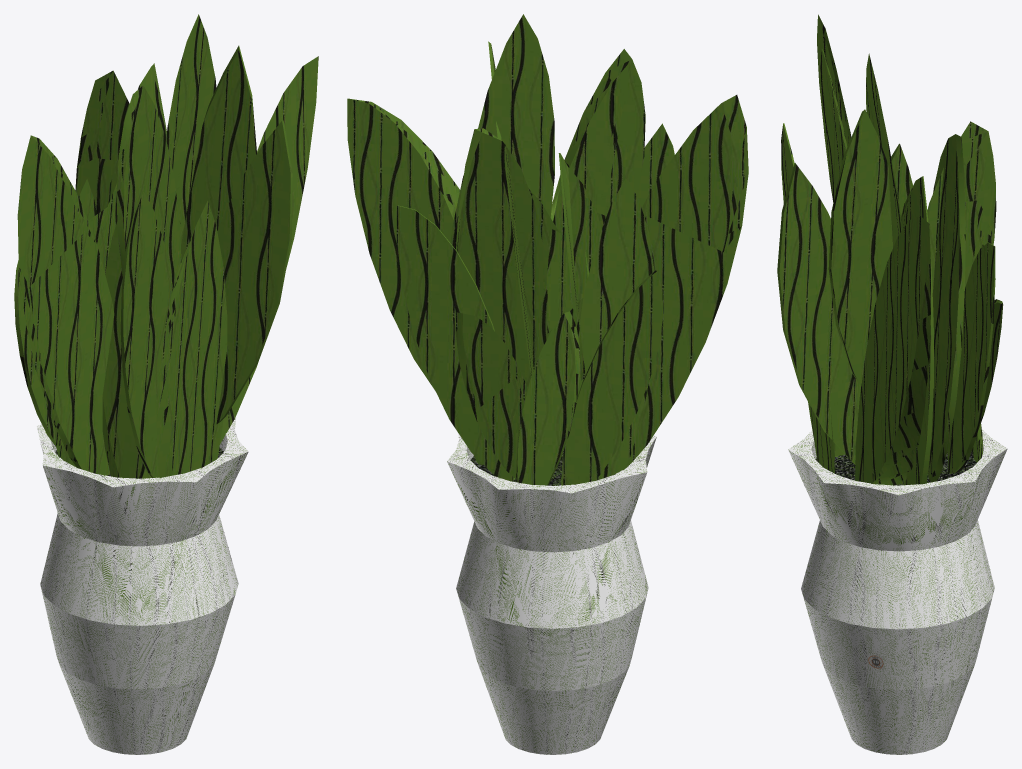
3 views of the same model, side by side, from view 1: azimuth 30°, elevation 25°; view 2: azimuth 150°, elevation 25°; view 3: azimuth 270°, elevation 25° (orthographic). The views are drawn at different scales.
Parts seen in each view (by area): view 1: SketchUp (×14); view 2: SketchUp (×15); view 3: SketchUp (×16).
Part boxes in pixels (left/top/right/bottom): SketchUp (×14): left=14, top=14, right=318, bottom=754; SketchUp (×15): left=347, top=14, right=748, bottom=754; SketchUp (×16): left=777, top=14, right=1007, bottom=754.
Size of the model in its own units: 24.56 by 14.04 by 47.26.
Materials: 4 (3 with a texture image).
